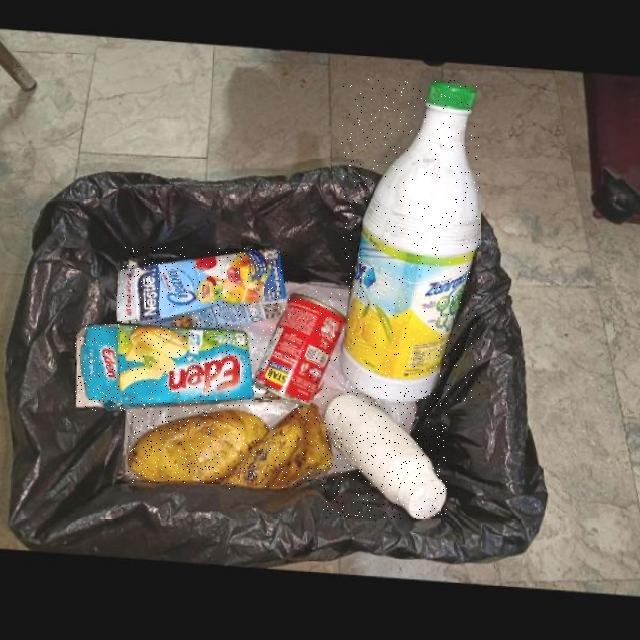biowaste: (129, 409, 270, 482), (220, 401, 333, 489)
metal: (254, 291, 347, 407)
paper: (76, 323, 255, 410), (117, 247, 288, 327)
plastic: (340, 79, 480, 403), (324, 391, 447, 519)
